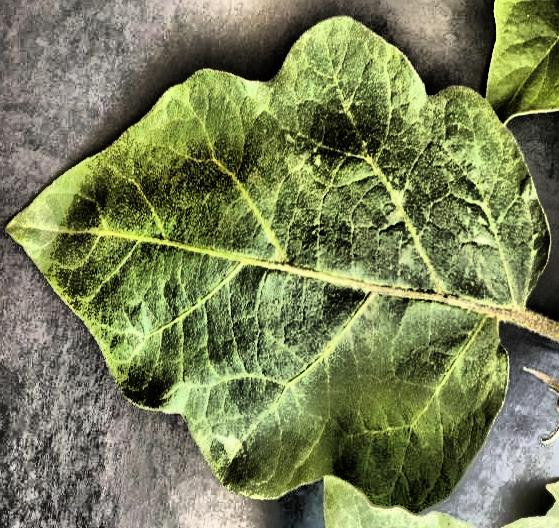HEALTHY: (0, 1, 559, 528)
